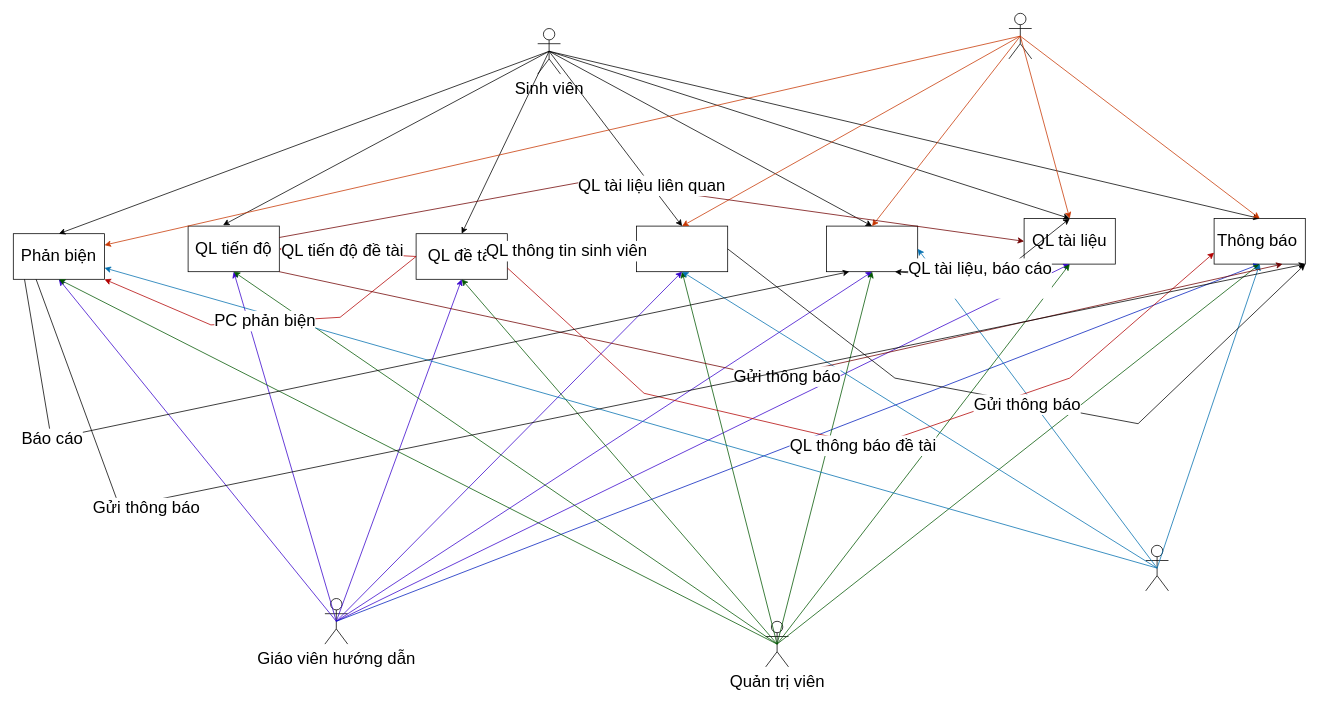
Image size: 1325x705. Some labels were removed from this diagram. Each missing label, with the centre of its shape:
Báo cáo & thống kê: point 872,248
Giáo viên phản biện: point 1020,36
Hội đồng: point 1156,568
QL sinh viên: point 682,248
